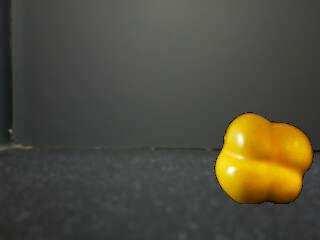Capsicum: (213, 111, 313, 205)
